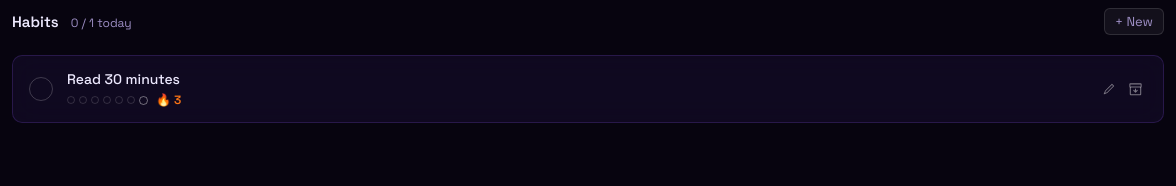
Test: habit history heatmap › clicking the toggle again collapses the heatmap
The width and height of the screenshot is (1176, 186).
Click the button named "toggle completion history" at (71, 100), box [67, 92, 1083, 108]
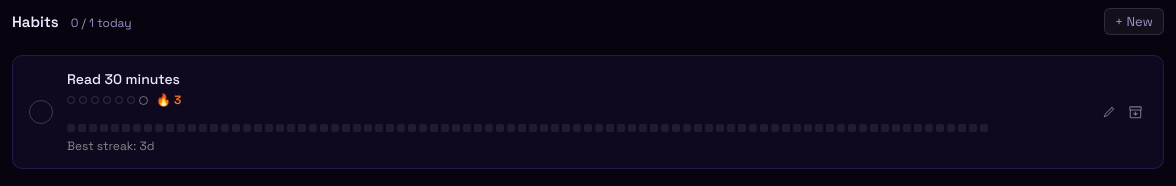
expect the element with class "habit-card-heatmap-wrap" is shown: met, box [67, 118, 1083, 154]
Click the button named "toggle completion history" at (71, 100), box [67, 92, 1083, 108]
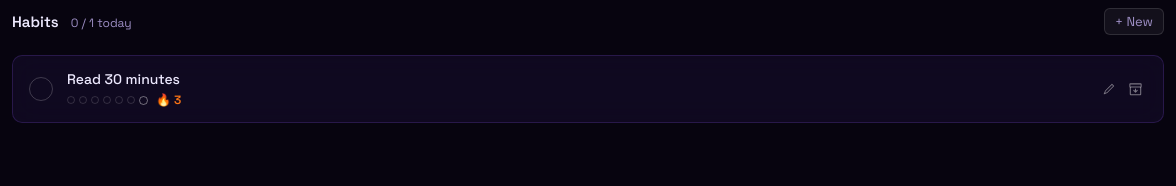
expect the element with class "habit-card-heatmap-wrap" is gone: met
